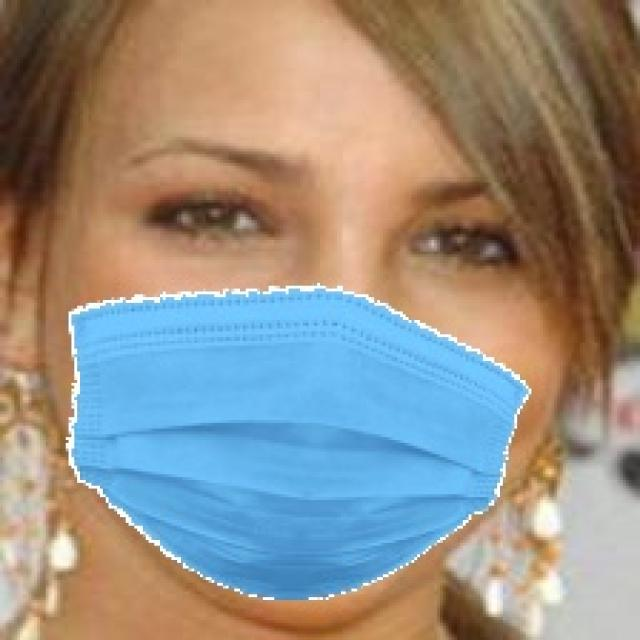mask: (50, 266, 538, 627)
